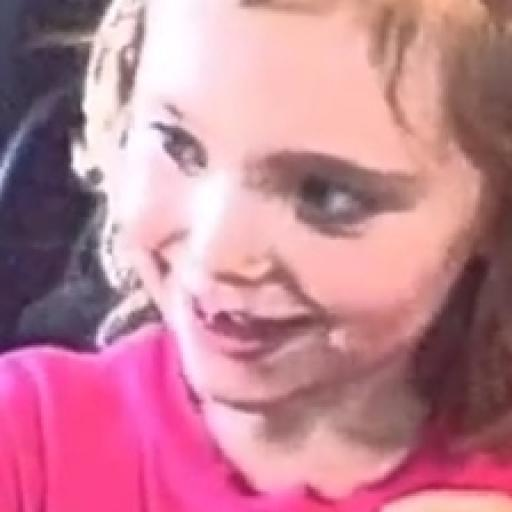Autism: (97, 3, 512, 434)
